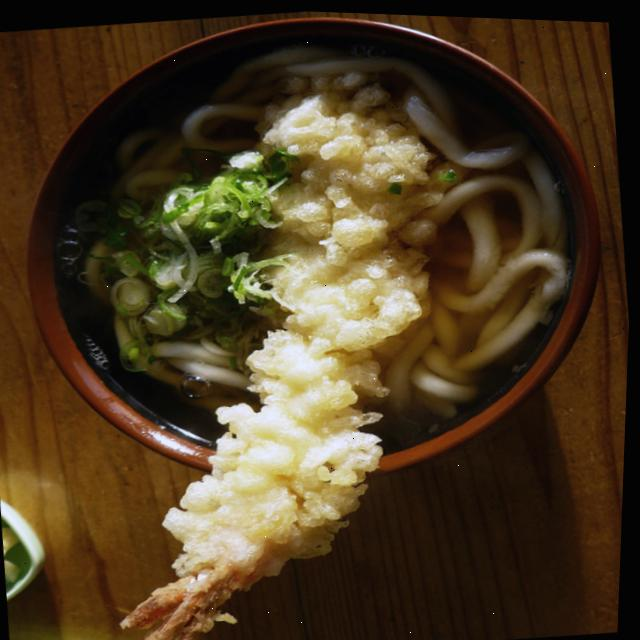面条主食: (36, 24, 589, 640)
